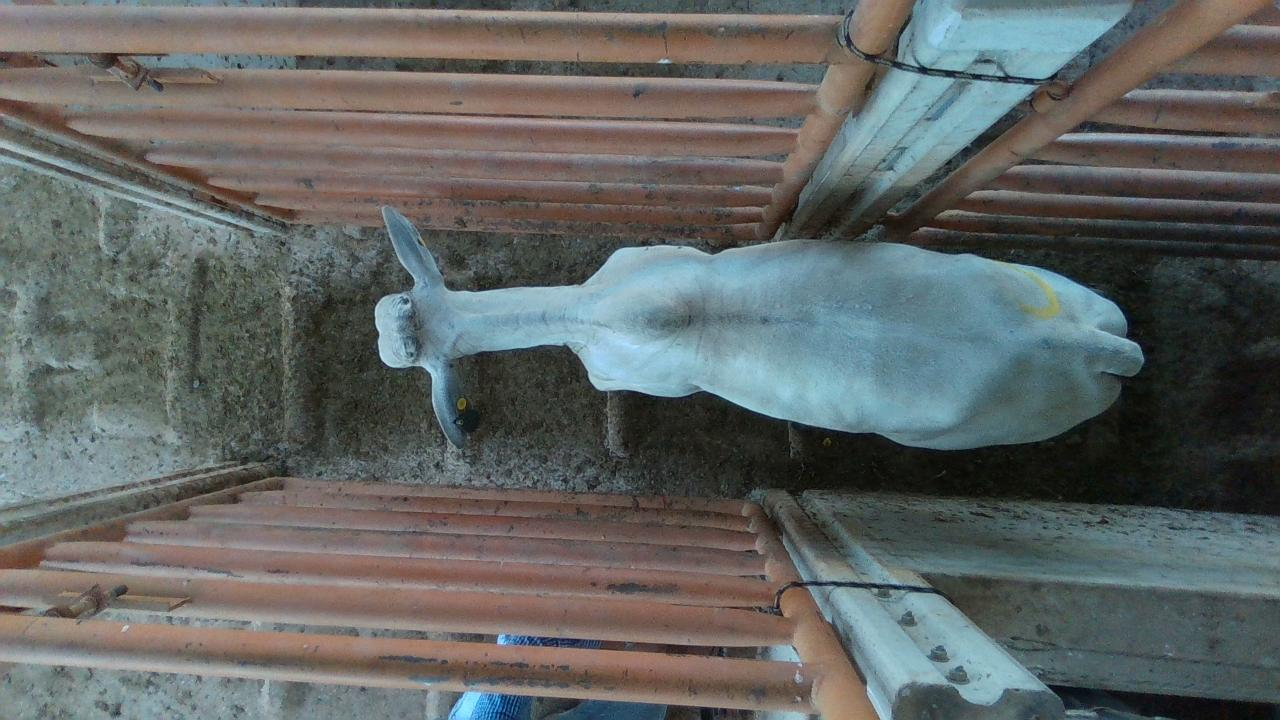cattle: (371, 203, 1145, 452)
